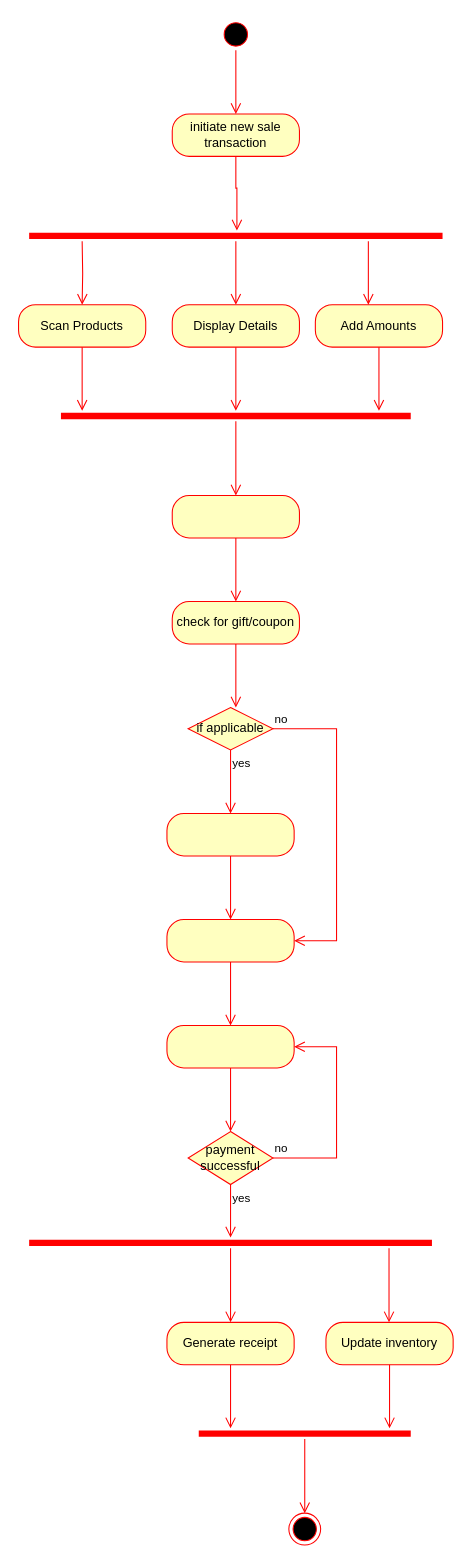
The diagram is 472 pixels wide and 1563 high, and some of its shapes have lost their labels. Each missing label, with the box of its shape:
display coupon/discount: (166, 812, 294, 856)
Display total: (166, 918, 294, 962)
Process Payment: (166, 1024, 294, 1068)
select payment method: (171, 494, 299, 538)
